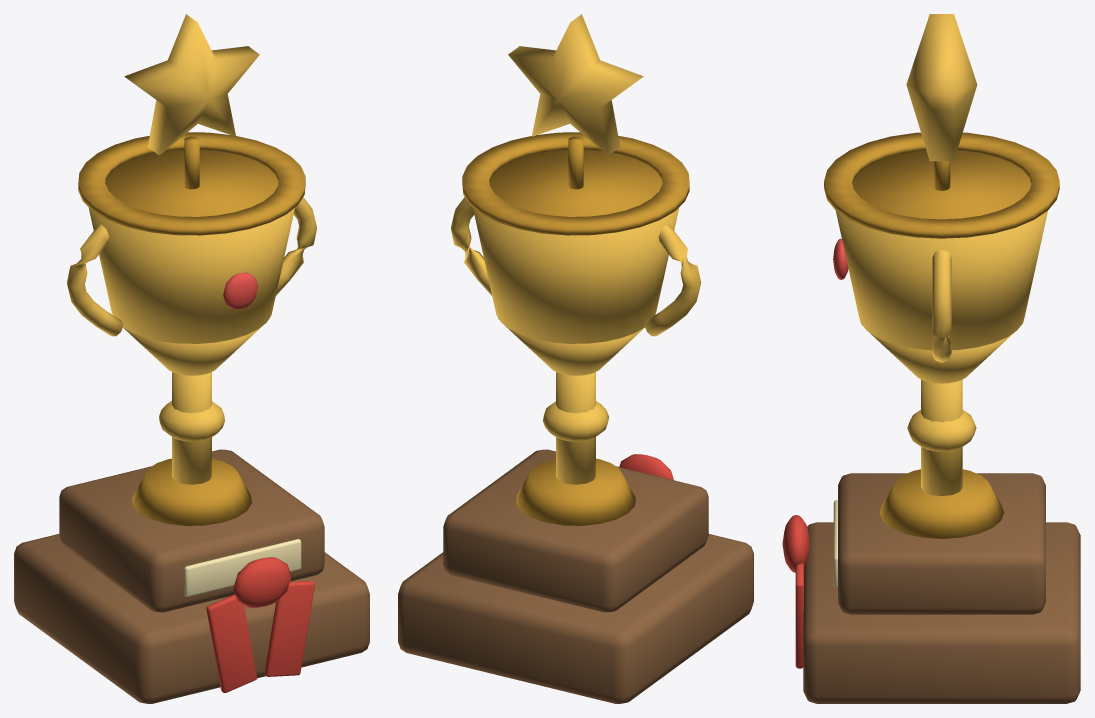
File: trophy-gold.glb
The picture shows the model from 3 angles, left to right: view 1: azimuth 30°, elevation 25°; view 2: azimuth 150°, elevation 25°; view 3: azimuth 270°, elevation 25°; orthographic projection. The views are drawn at different scales.
Visible parts, largest first — view 1: trophy; view 2: trophy; view 3: trophy.
Boxes of the visible parts, x1=… form: trophy: x1=14, y1=14, x2=369, y2=703; trophy: x1=398, y1=14, x2=753, y2=703; trophy: x1=782, y1=14, x2=1080, y2=703.
Bounding box in the file's own units: 0.428 × 1.01 × 0.43.
